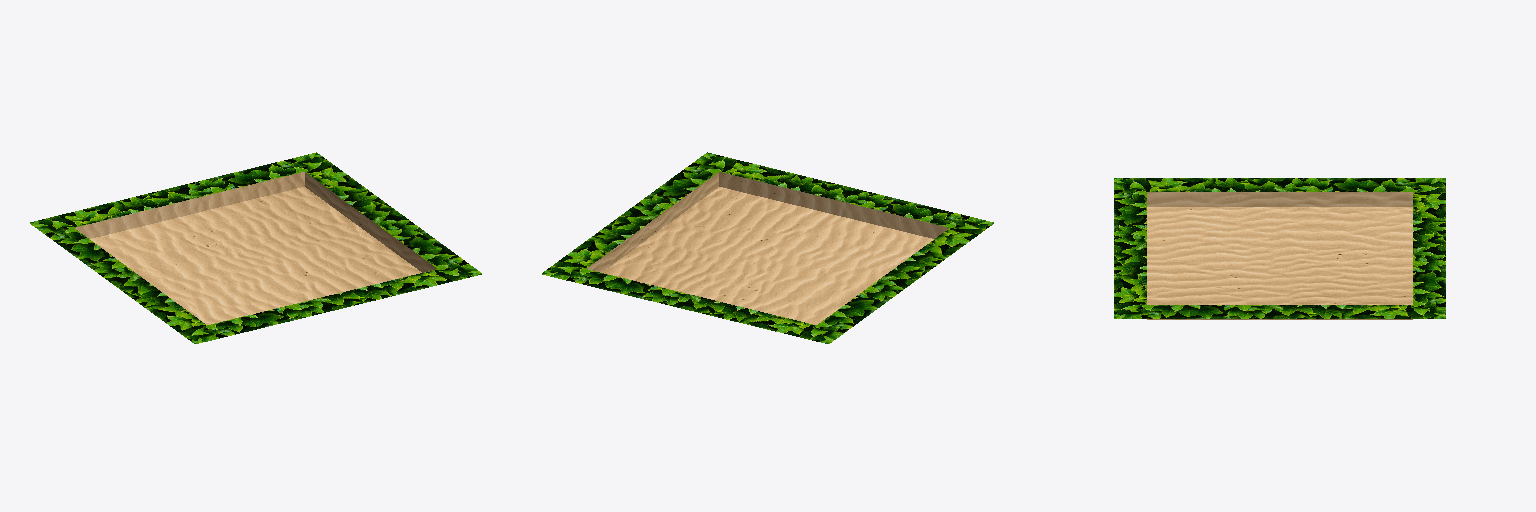
3 renders of one model, left to right at view 1: azimuth 30°, elevation 25°; view 2: azimuth 150°, elevation 25°; view 3: azimuth 270°, elevation 25°, orthographic.
Parts seen in each view (by area): view 1: Cube; view 2: Cube; view 3: Cube.
Boxes of the visible parts, box(x1,y1,x2,y2) form: Cube: box(30, 152, 481, 343); Cube: box(542, 152, 993, 343); Cube: box(1114, 178, 1445, 319).
Bounding box in the file's own units: 20 × 1 × 20.
1 materials, 1 textured.